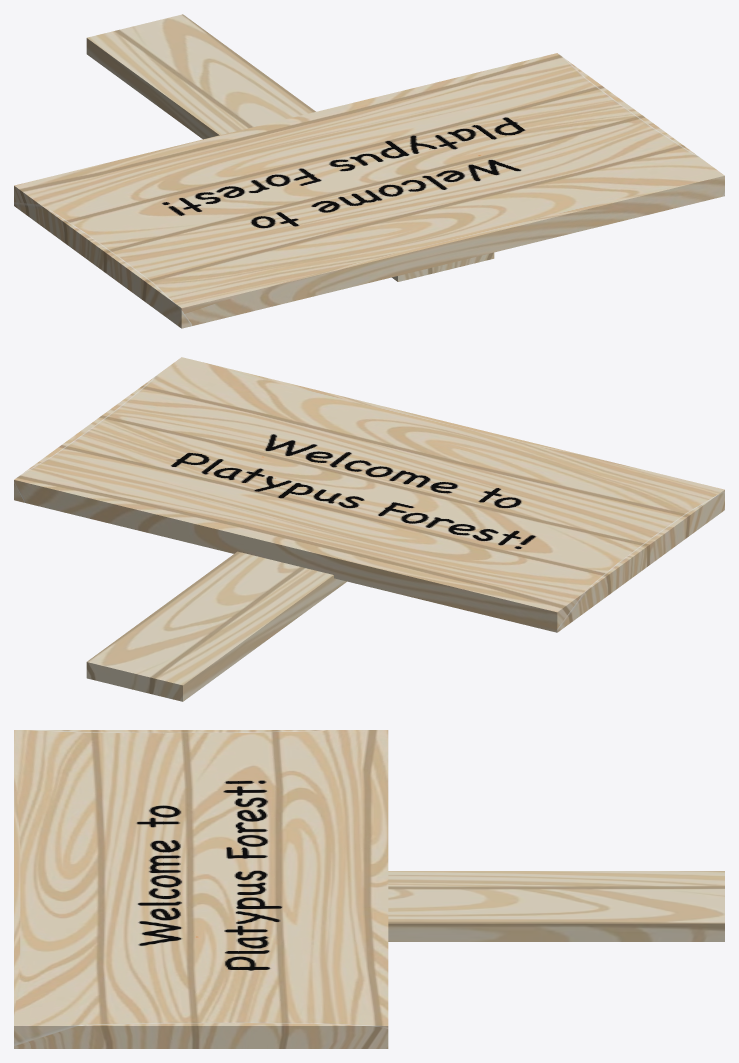
The model's file is welcome-sign-2.fbx.
3 renders of one model, top to bottom at view 1: azimuth 30°, elevation 25°; view 2: azimuth 150°, elevation 25°; view 3: azimuth 270°, elevation 25°, orthographic. The views are drawn at different scales.
Parts seen in each view (by area): view 1: pPlane1, pPlane2; view 2: pPlane1, pPlane2; view 3: pPlane1, pPlane2.
Part boxes in pixels (x1=…): pPlane1: x1=14, y1=53, x2=724, y2=328; pPlane2: x1=86, y1=14, x2=494, y2=281; pPlane1: x1=14, y1=357, x2=724, y2=632; pPlane2: x1=86, y1=551, x2=346, y2=701; pPlane1: x1=14, y1=730, x2=388, y2=1048; pPlane2: x1=388, y1=871, x2=724, y2=941.
Size of the model in its own units: 13.09 by 0.7737 by 13.3.
Materials: 2 (2 with a texture image).
